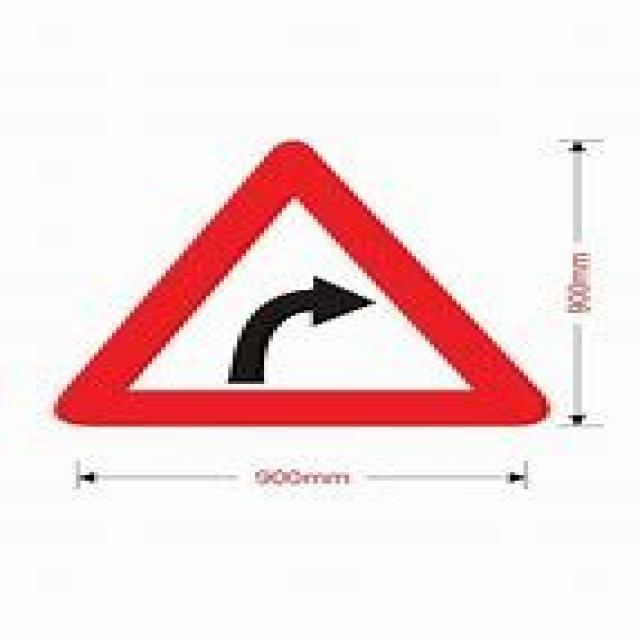right hand curve: (54, 139, 548, 426)
